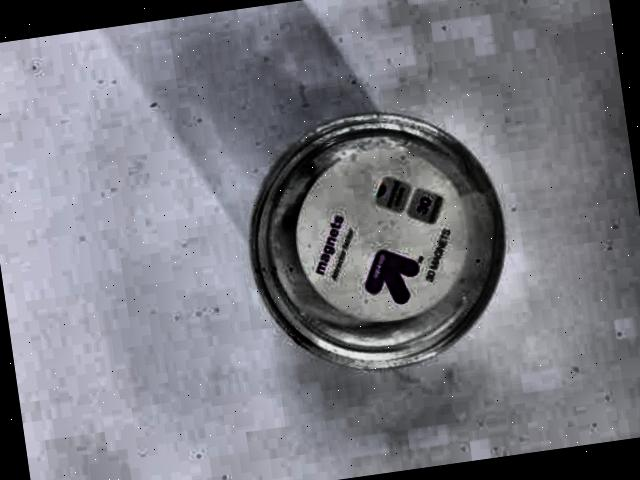Plastic: (233, 83, 532, 385)
